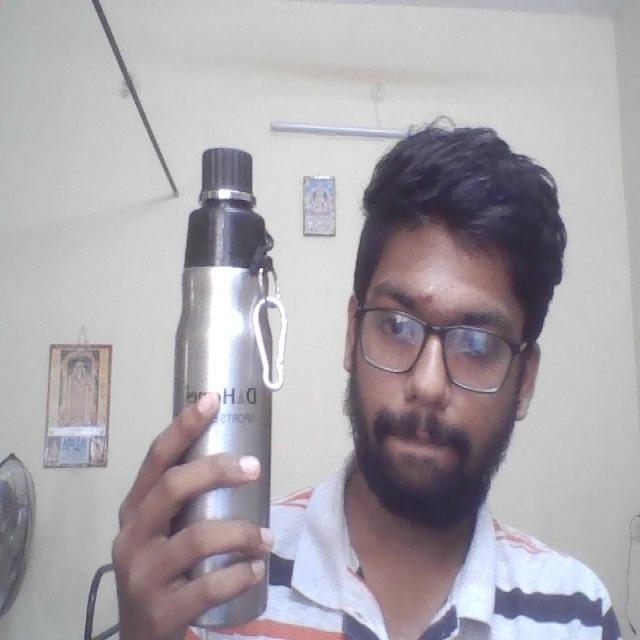Drinking: (178, 136, 280, 617)
